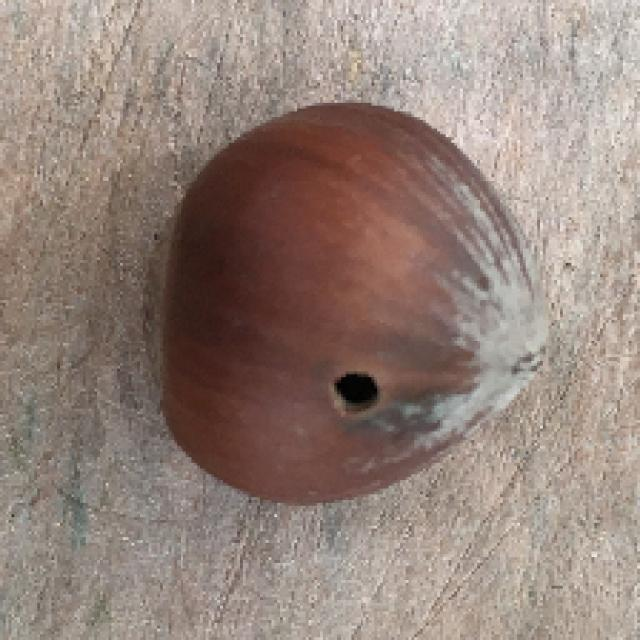damagedHazelnut: (142, 102, 556, 503)
